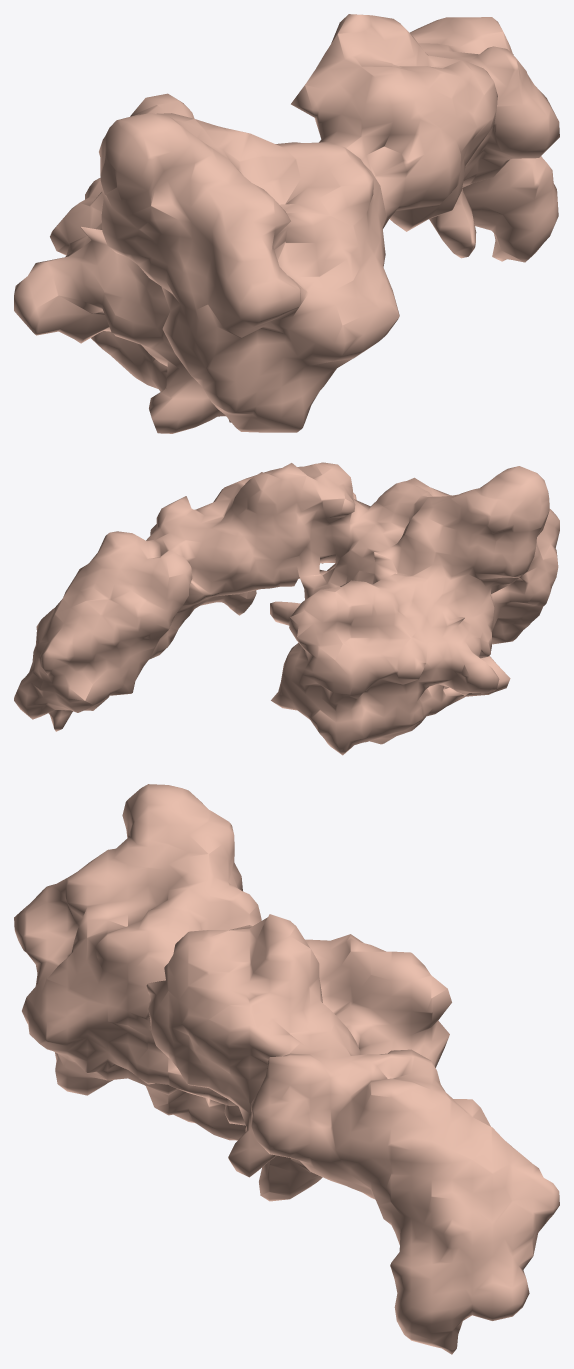
Rendered from 1efg_cms.dae.
3 renders of one model, top to bottom at view 1: azimuth 30°, elevation 25°; view 2: azimuth 150°, elevation 25°; view 3: azimuth 270°, elevation 25°, orthographic. The views are drawn at different scales.
Visible parts, largest first — view 1: CoarseMS_1efg_1; view 2: CoarseMS_1efg_1; view 3: CoarseMS_1efg_1.
Boxes of the visible parts, x1=… form: CoarseMS_1efg_1: x1=14, y1=14, x2=559, y2=433; CoarseMS_1efg_1: x1=14, y1=462, x2=559, y2=755; CoarseMS_1efg_1: x1=14, y1=784, x2=559, y2=1354.
Bounding box in the file's own units: 0.9627 × 0.5901 × 0.8475.
